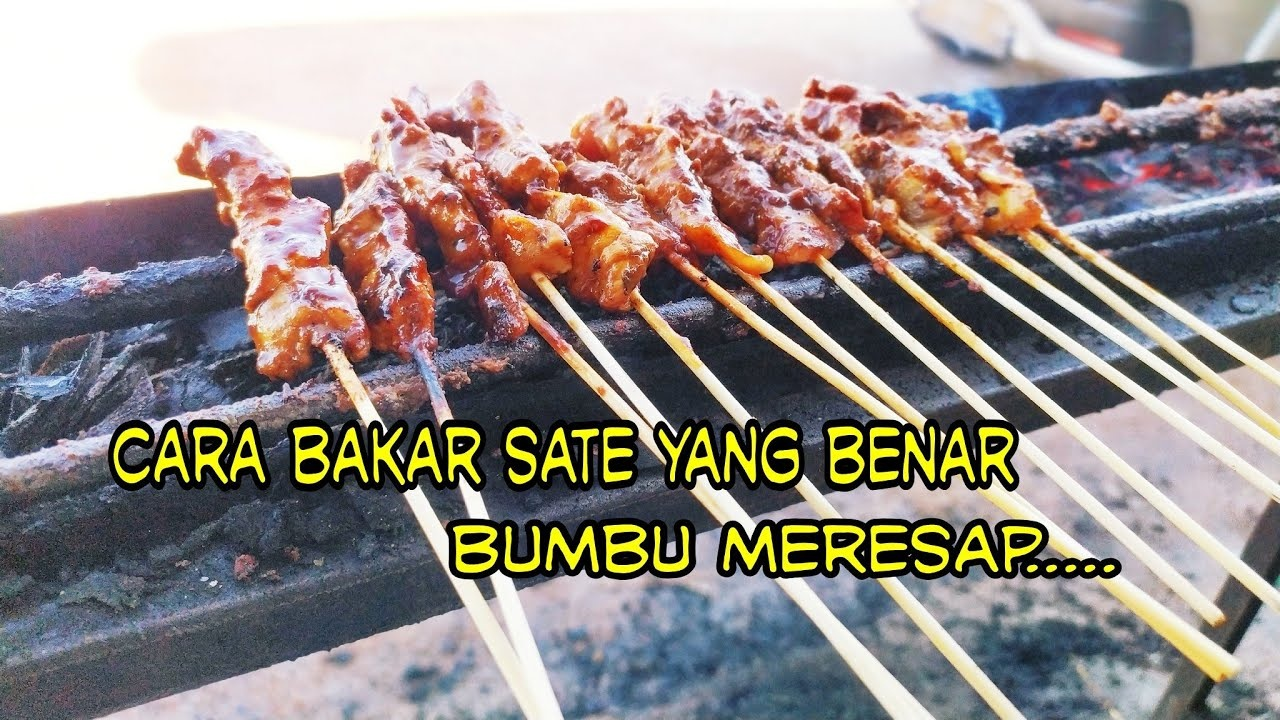sate_madura: (170, 83, 1076, 412)
